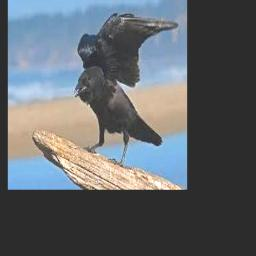Crow: (74, 12, 178, 169)
